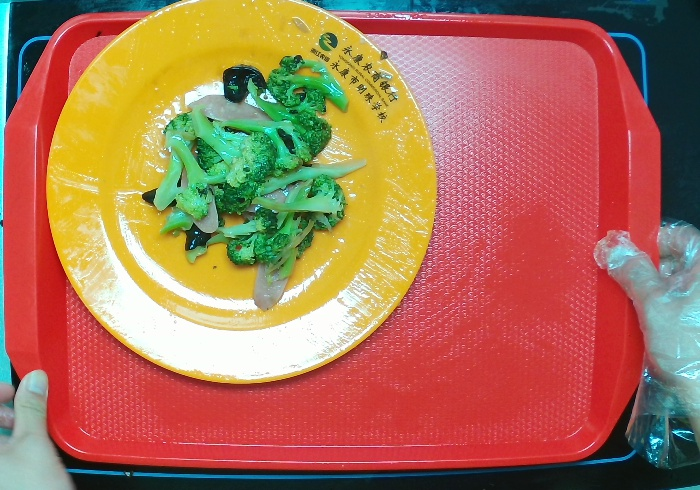YKMZ-Ju_Se_Mian_Pan: (44, 1, 438, 389)
